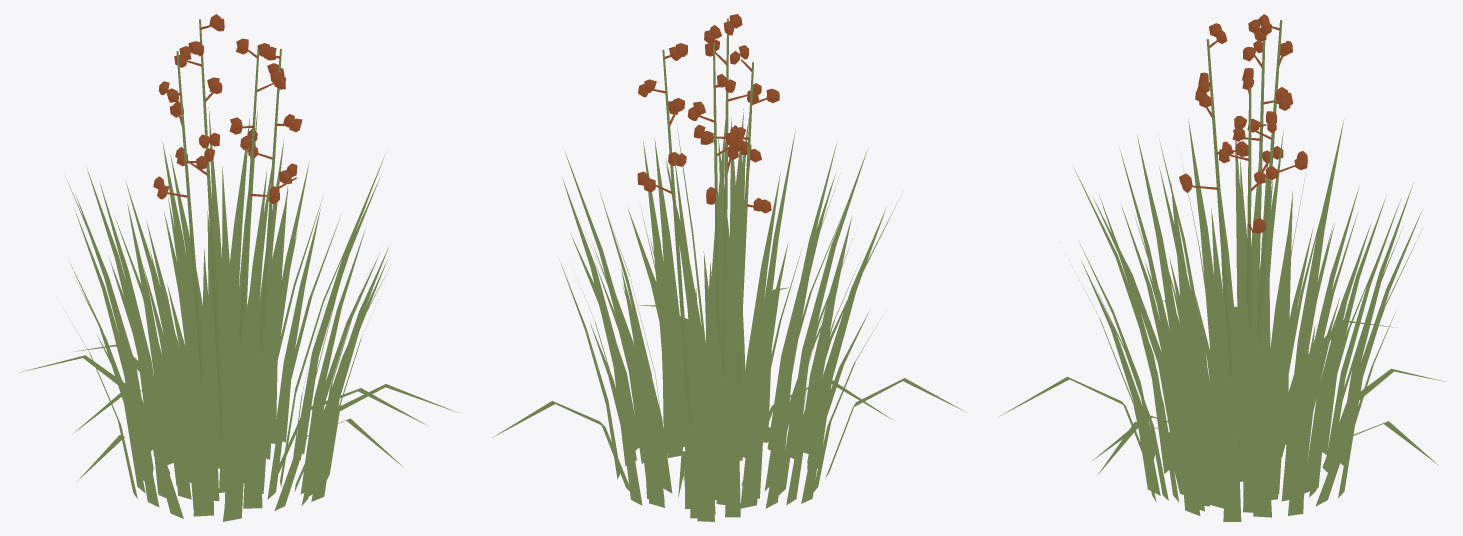
The model's file is Blender_Sawgrass_1.glb.
The picture shows the model from 3 angles, left to right: view 1: azimuth 30°, elevation 25°; view 2: azimuth 150°, elevation 25°; view 3: azimuth 270°, elevation 25°; orthographic projection.
Parts seen in each view (by area): view 1: Blender_Sawgrass_1; view 2: Blender_Sawgrass_1; view 3: Blender_Sawgrass_1.
Boxes of the visible parts, bbox=[...] form: Blender_Sawgrass_1: bbox=[19, 14, 457, 521]; Blender_Sawgrass_1: bbox=[492, 14, 966, 521]; Blender_Sawgrass_1: bbox=[999, 14, 1445, 521].
Bounding box in the file's own units: 2.16 × 2.64 × 2.34.
